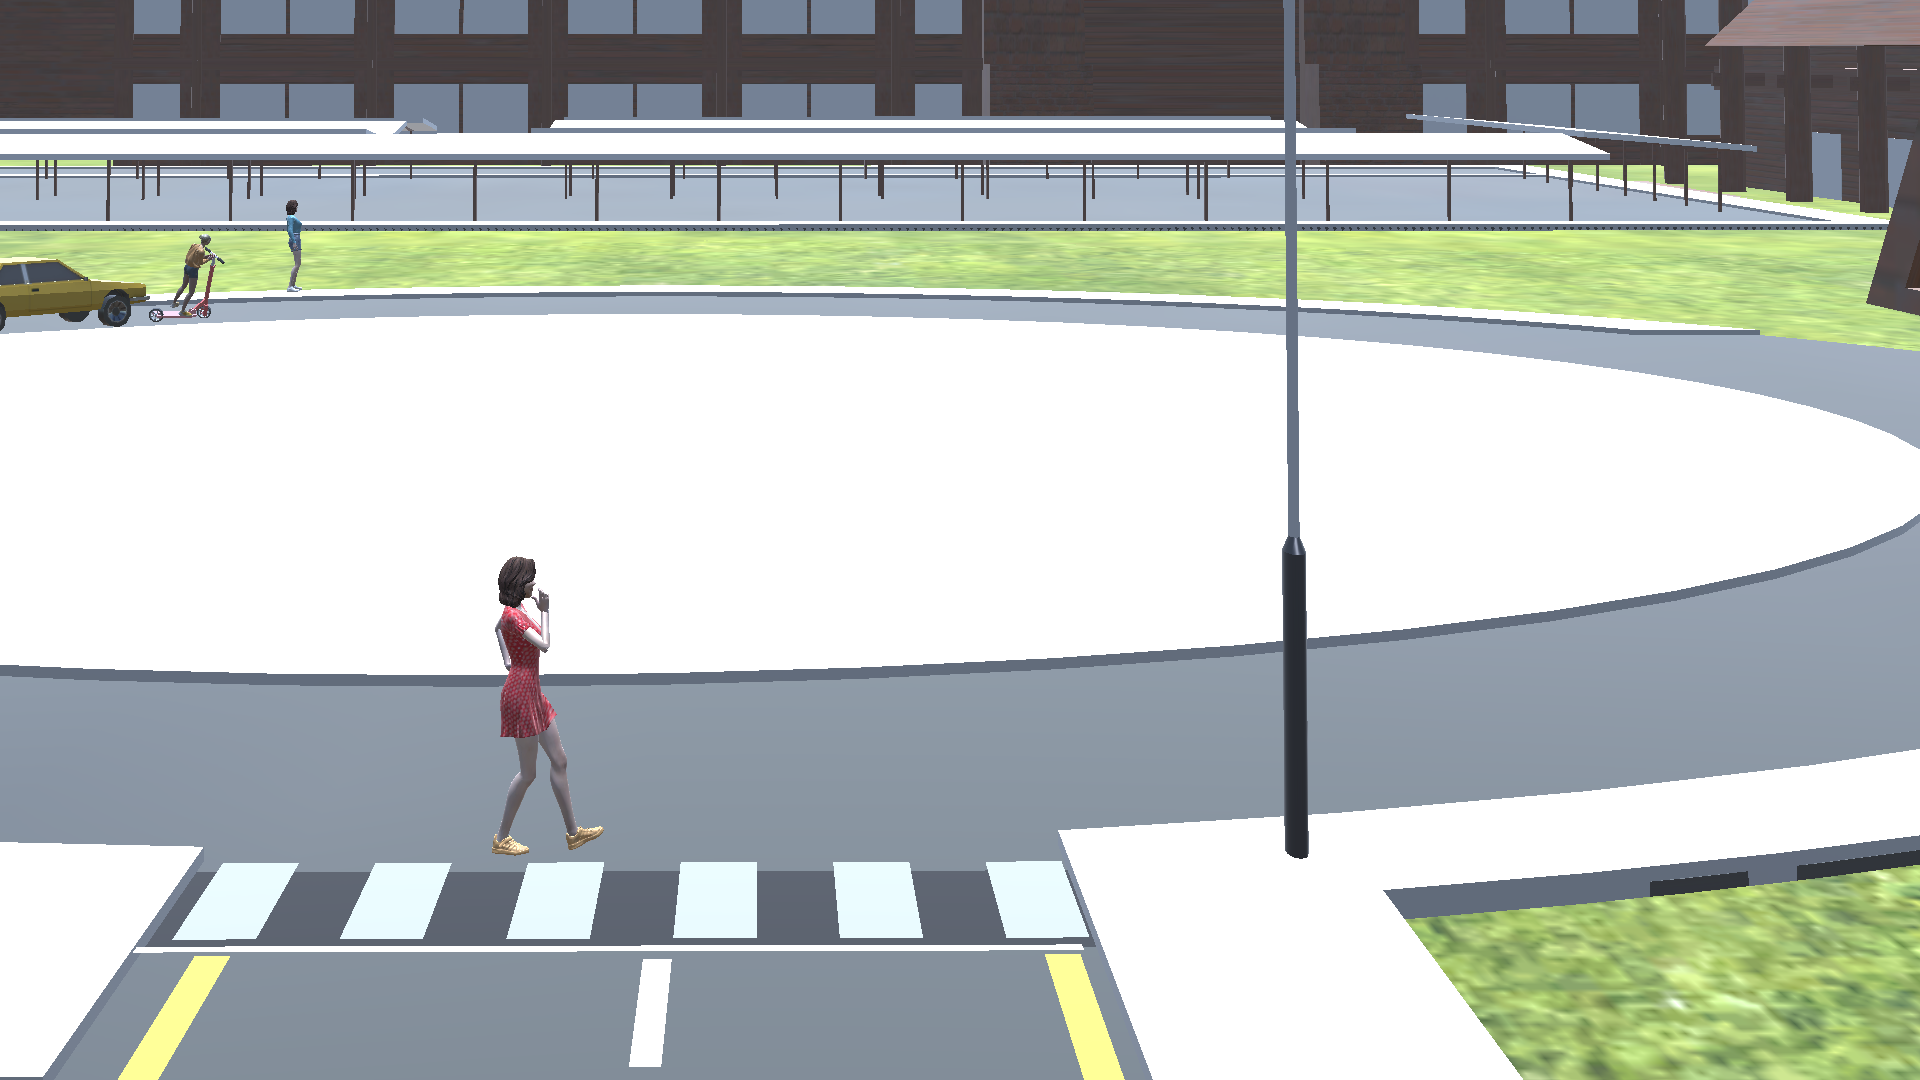pedestrian: (477, 545, 607, 856), (278, 198, 308, 298)
